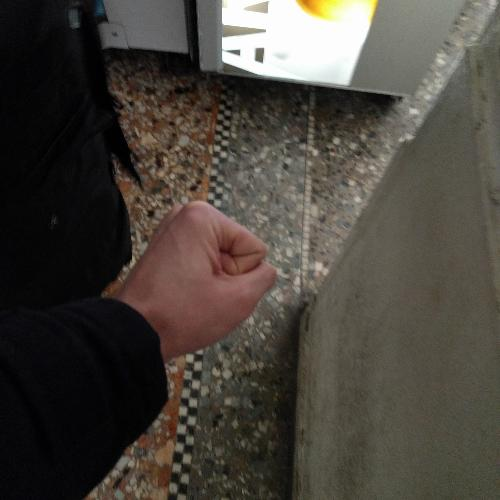rock: (116, 194, 286, 368)
